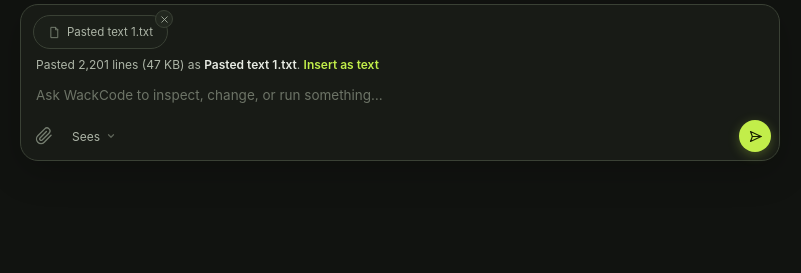
Test: Composer attachments › puts a pasted attachment back into the draft
What coordinates should you click on to do the following:
click the button "Insert as text"
I would click on:
 (341, 64)
Its box is 304,57 -> 379,72.
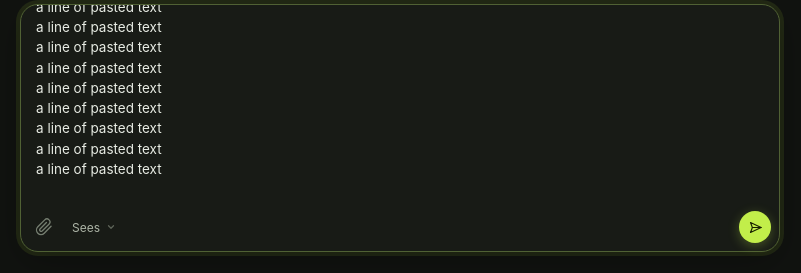
Result: the button "Insert as text" is gone
